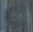bike lane: (2, 1, 30, 28)
